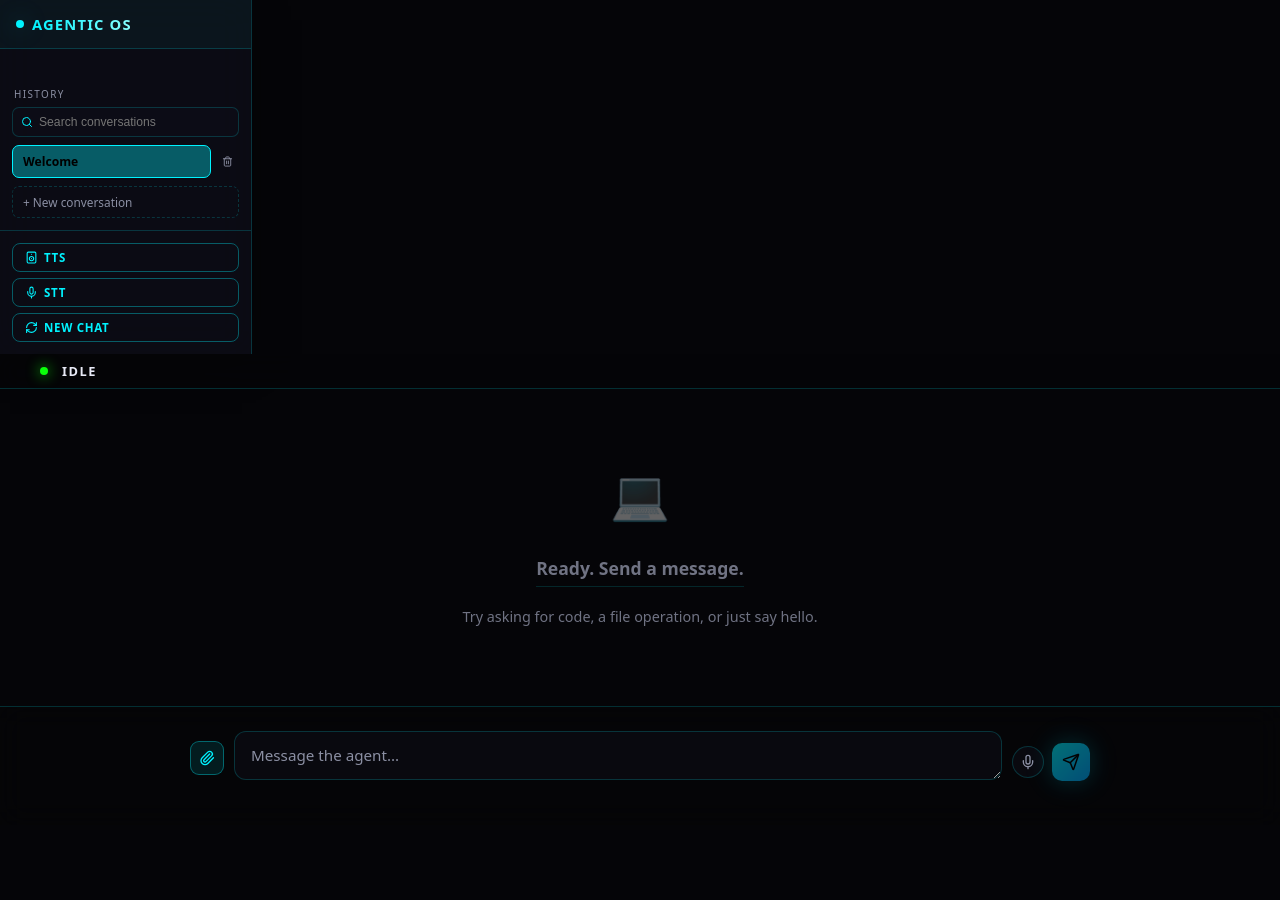
Test: chat turn handling › persists both messages so a conversation can be resumed
Type "Remember this" into the text box with placeholder "Message the agent..." at [618, 755], box left=234, top=731, right=1002, bottom=780
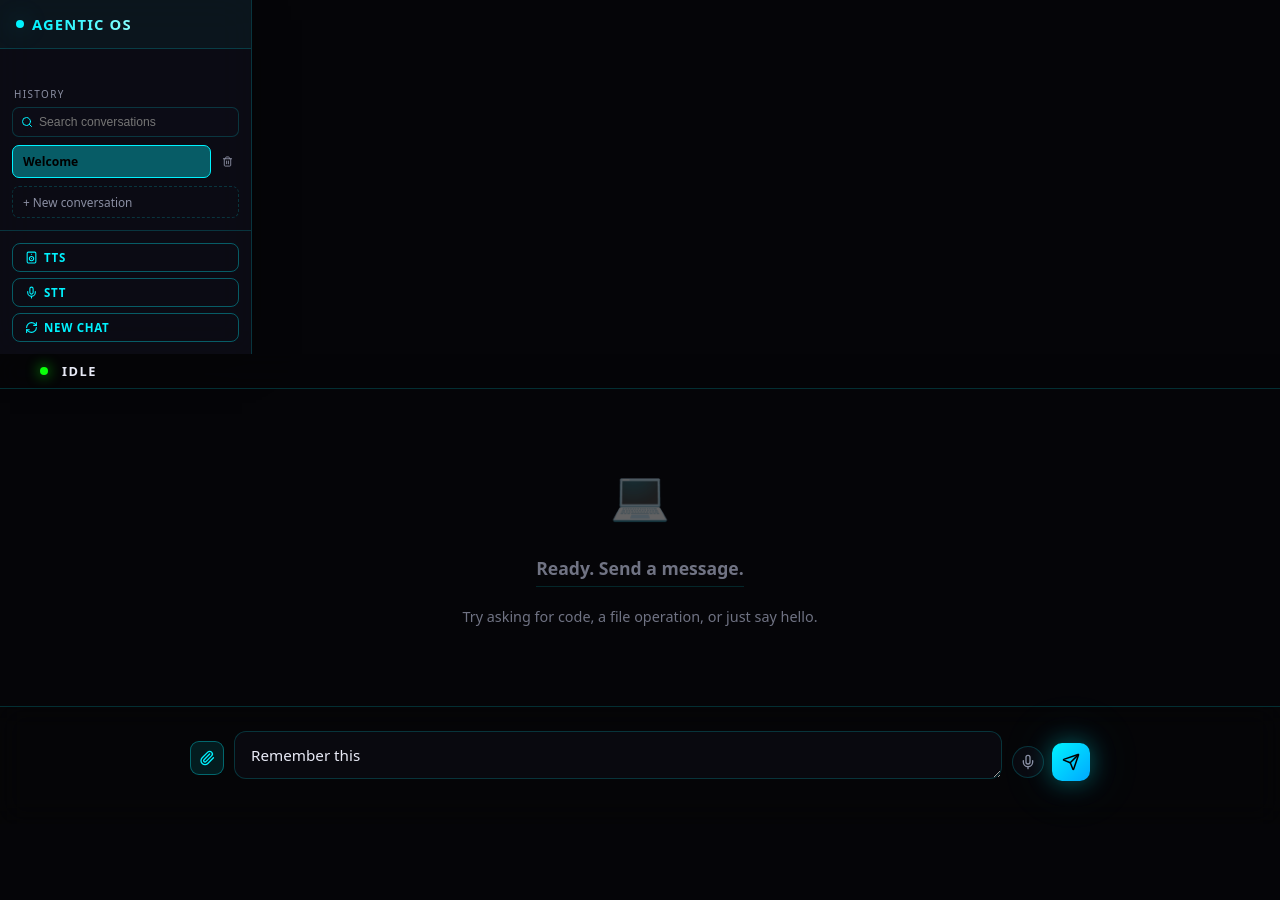
Click the button with class "send-btn" at [1071, 762], box left=1052, top=742, right=1090, bottom=780
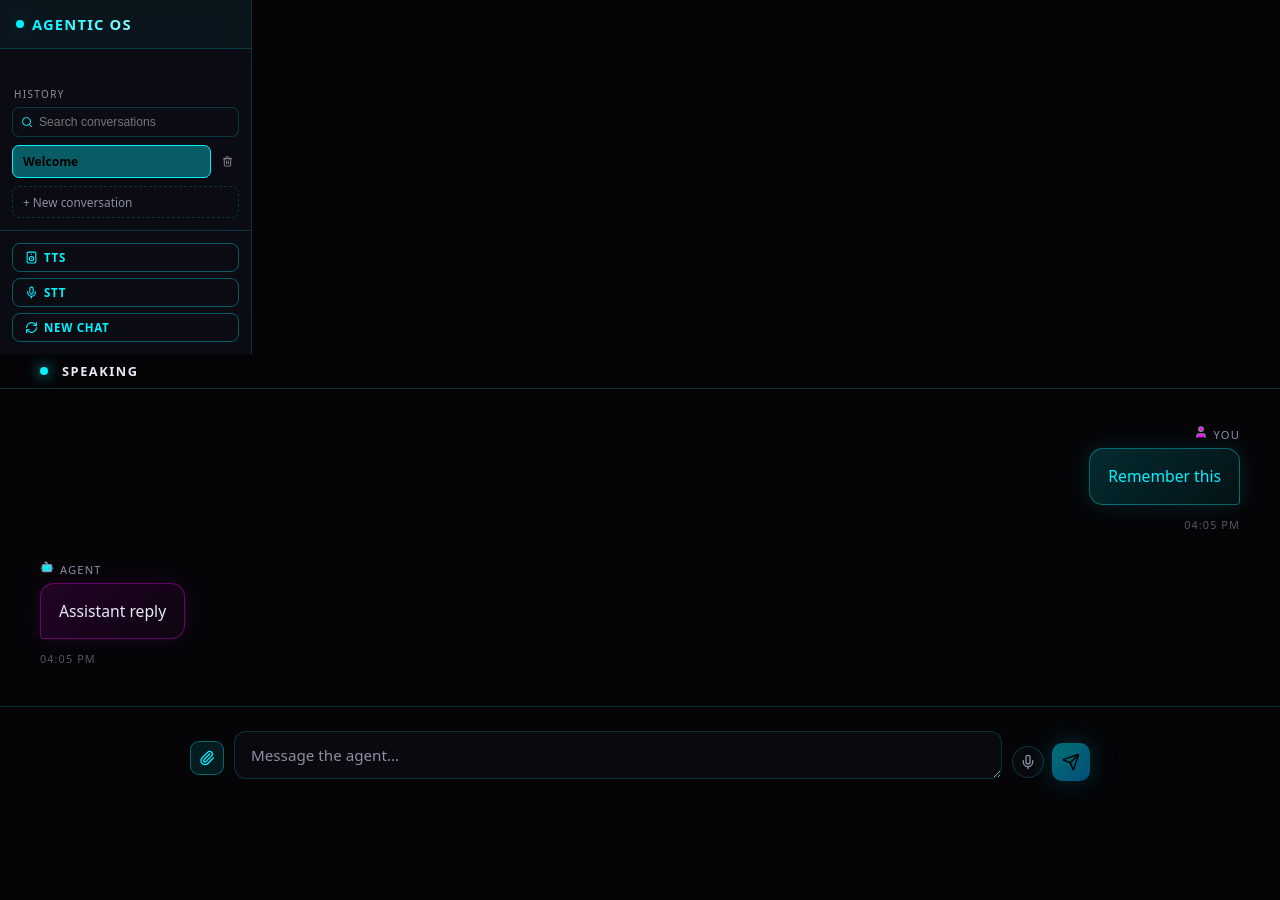
Now the text "Assistant reply" is shown, box left=59, top=598, right=166, bottom=624
